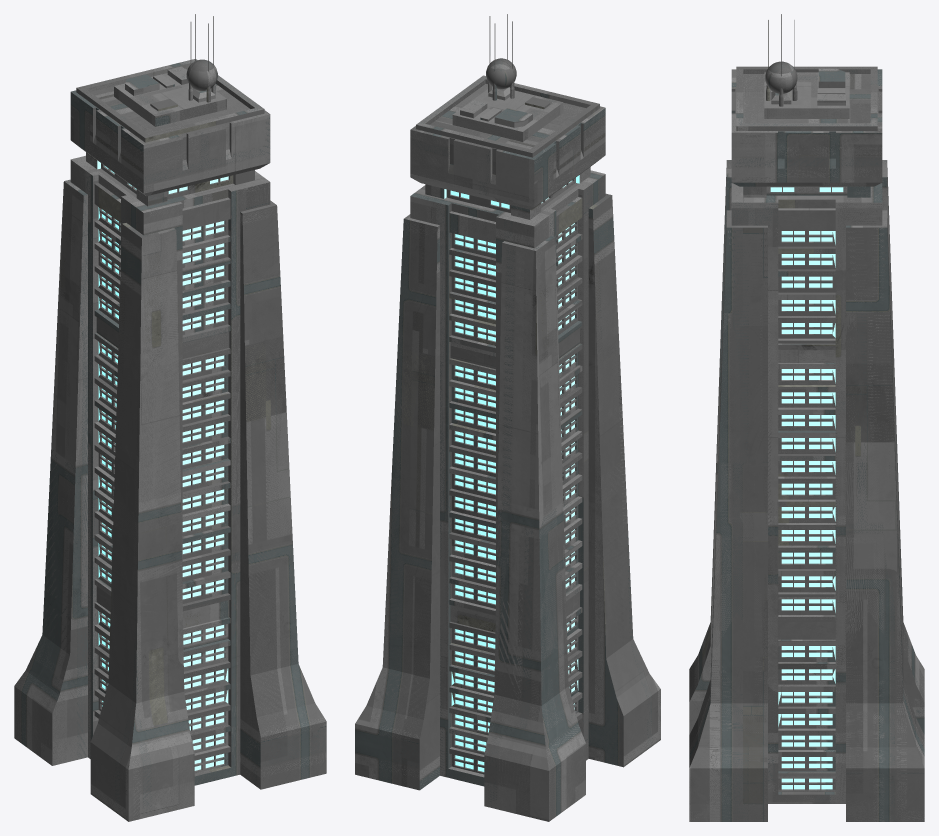
The model's file is Building6.fbx.
3 renders of one model, left to right at view 1: azimuth 30°, elevation 25°; view 2: azimuth 150°, elevation 25°; view 3: azimuth 270°, elevation 25°, orthographic. The views are drawn at different scales.
Visible parts, largest first — view 1: Building_vi_3; view 2: Building_vi_3; view 3: Building_vi_3.
Part boxes in pixels (x1,y1,x2,y2): Building_vi_3: (14,14,326,821); Building_vi_3: (355,14,660,821); Building_vi_3: (689,14,924,821).
Size of the model in its own units: 29.22 by 104 by 29.22.
Materials: 2 (1 with a texture image).
